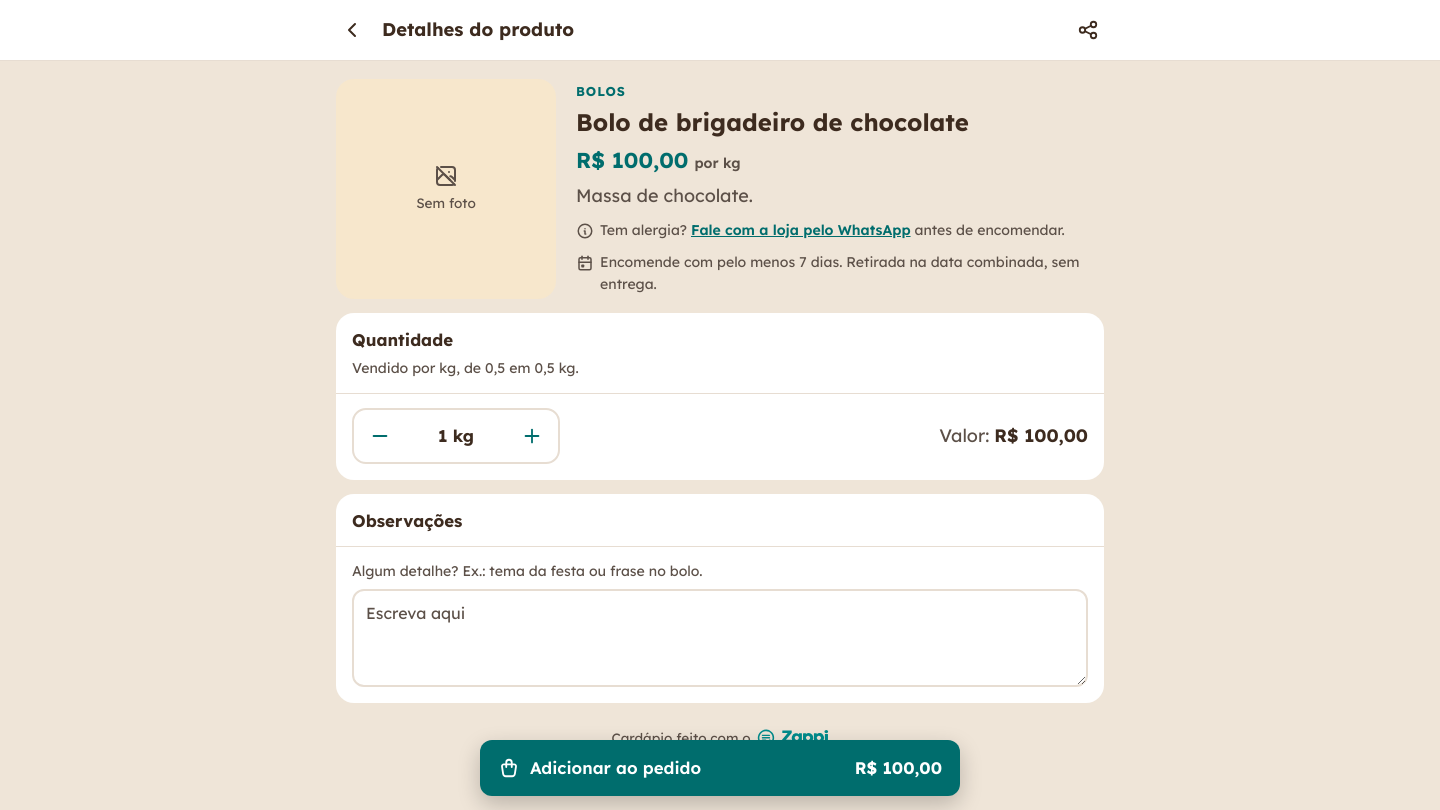
Test: compartilhar no detalhe do produto (ZAP-189) › erro no compartilhar do aparelho também mostra como compartilhar à mão
Click the button named "Compartilhar este produto". click: {"x": 1088, "y": 30}
box: [1064,6,1112,54]
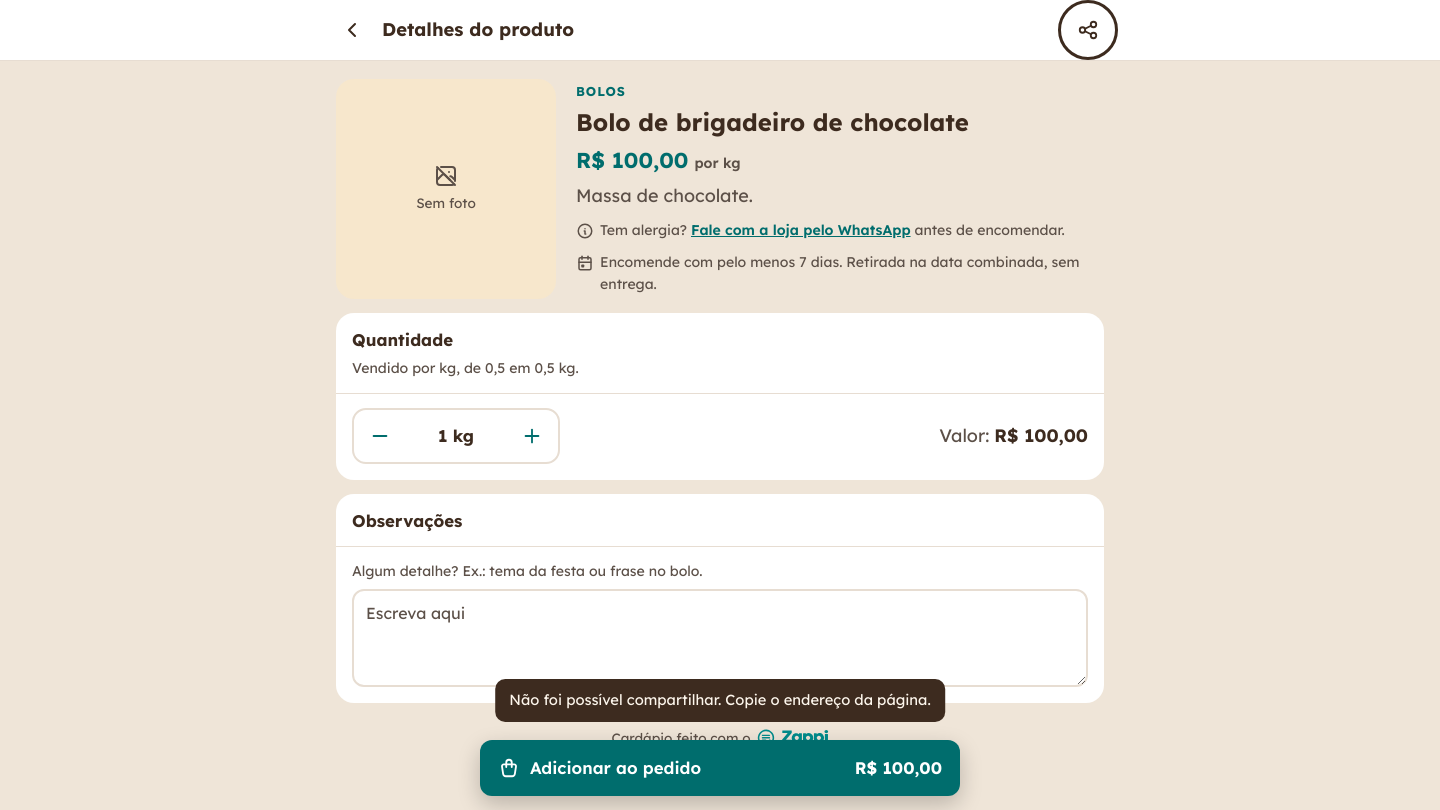
Check: the text "Não foi possível compartilhar. Copie o endereço da página." is shown, box [495,679,945,722]
